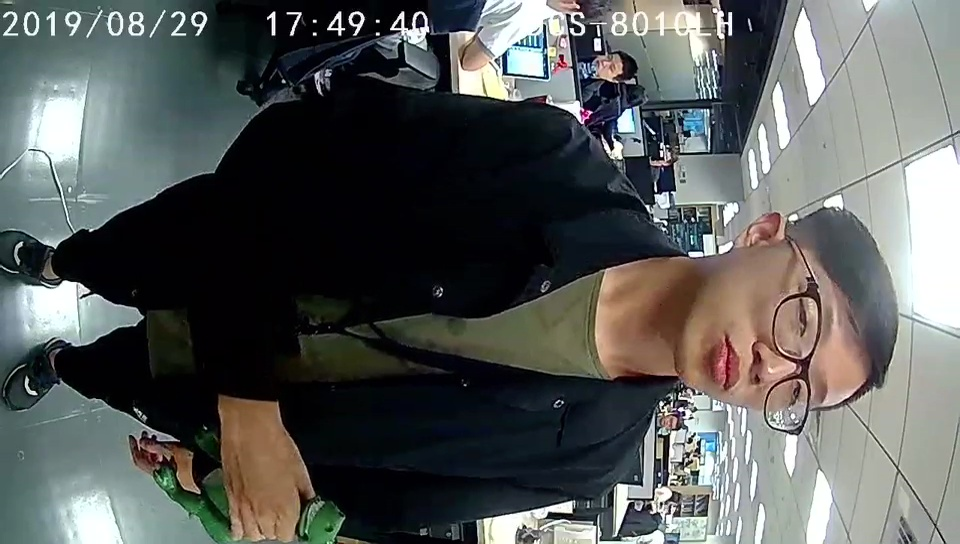rex: (154, 424, 348, 544)
